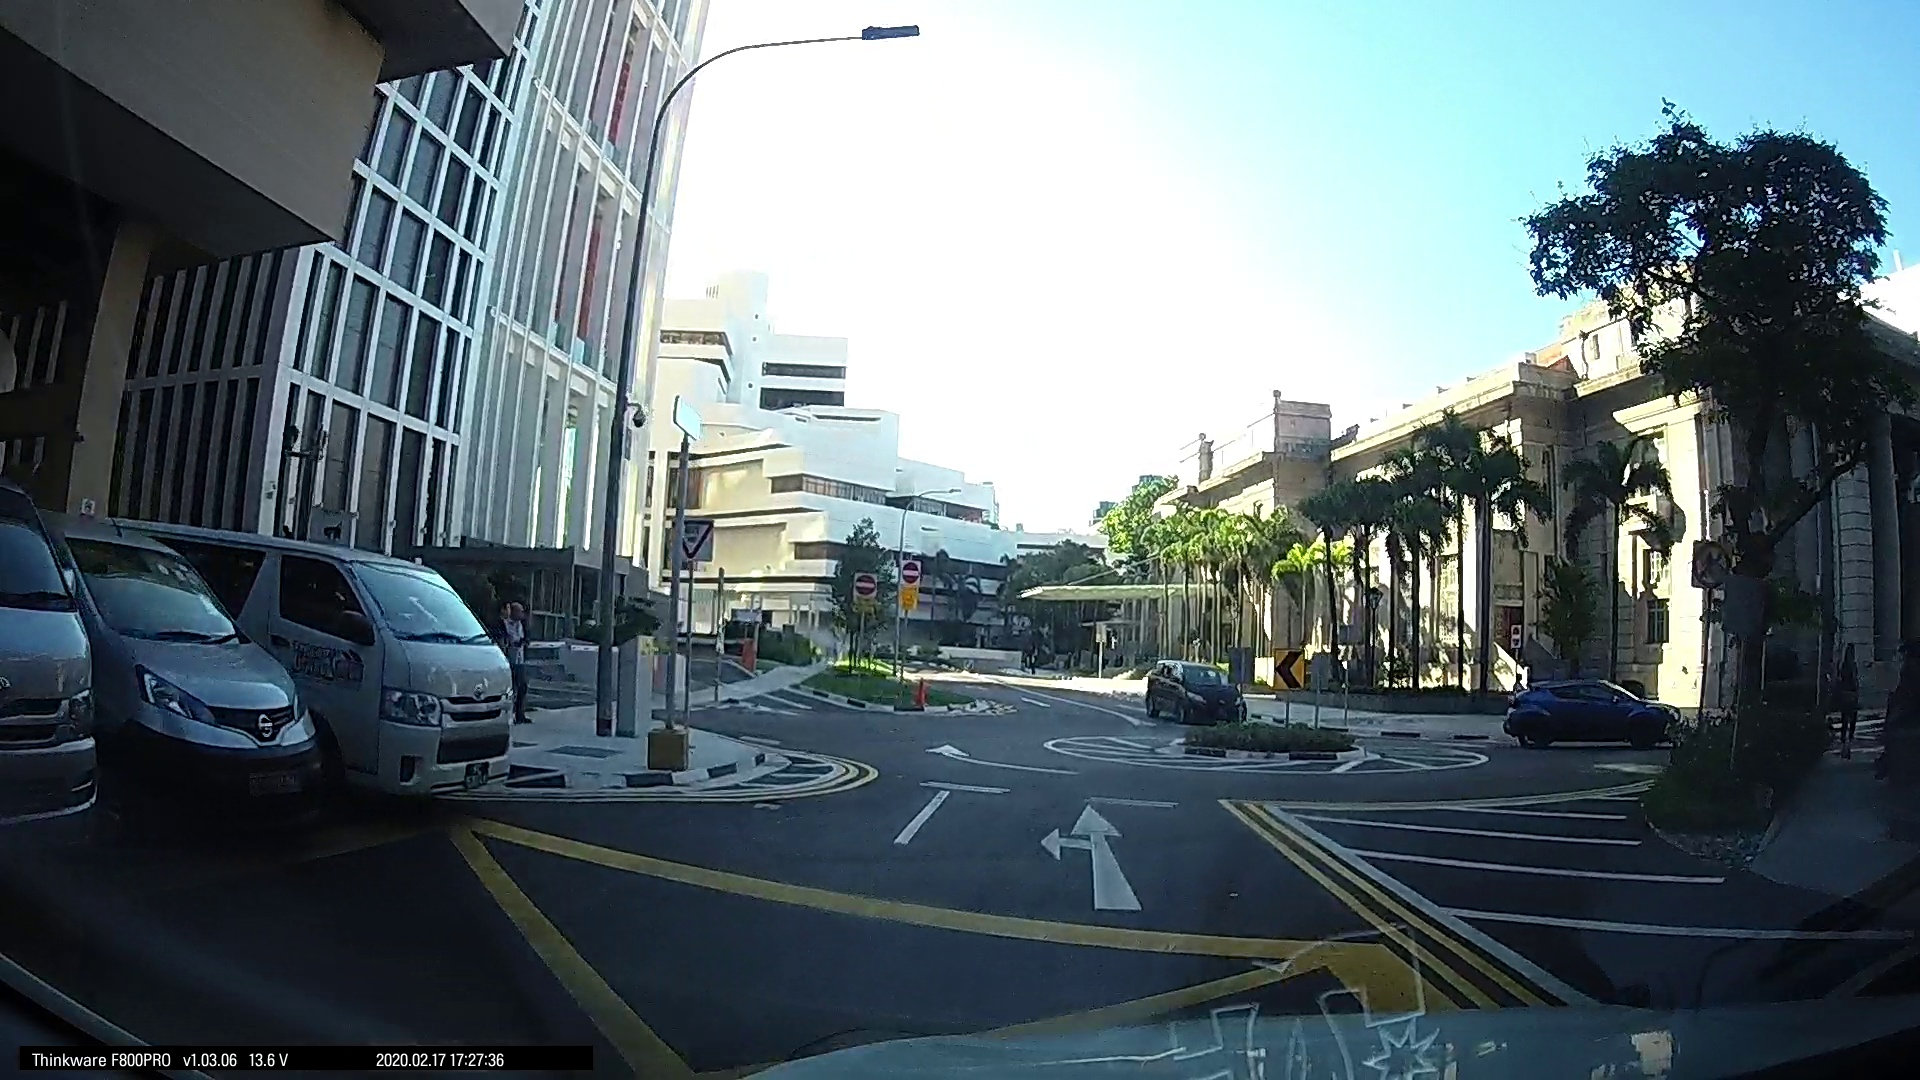Light Vehicle: (135, 527, 524, 804), (38, 517, 322, 816), (1497, 670, 1671, 746), (1141, 657, 1244, 725)
